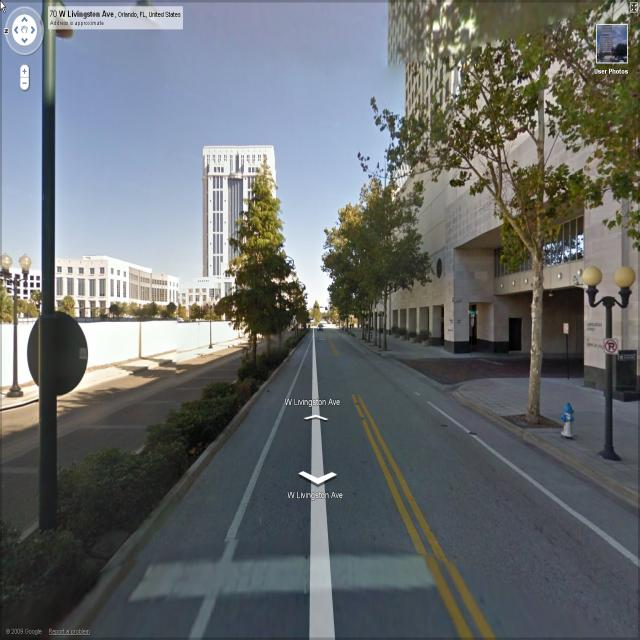b_1: (50, 256, 186, 323)
b_2: (346, 5, 640, 406), (0, 242, 296, 343), (205, 141, 285, 328)
